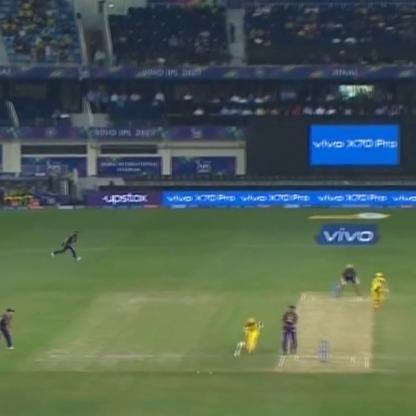pitch: (262, 286, 369, 382)
